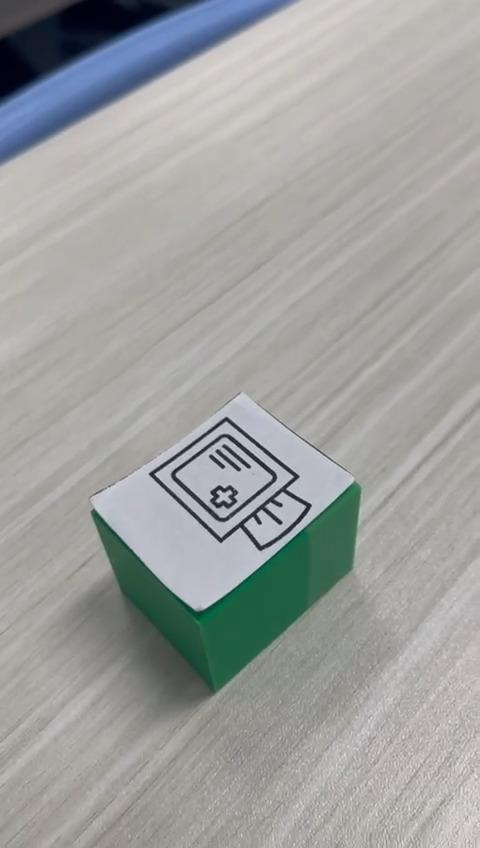Gauze: (88, 390, 362, 693)
